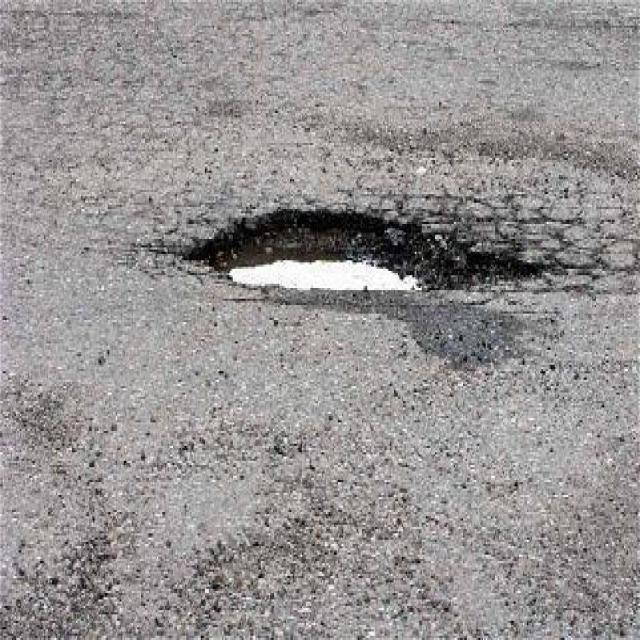buraco: (188, 196, 548, 299), (183, 205, 541, 298)
